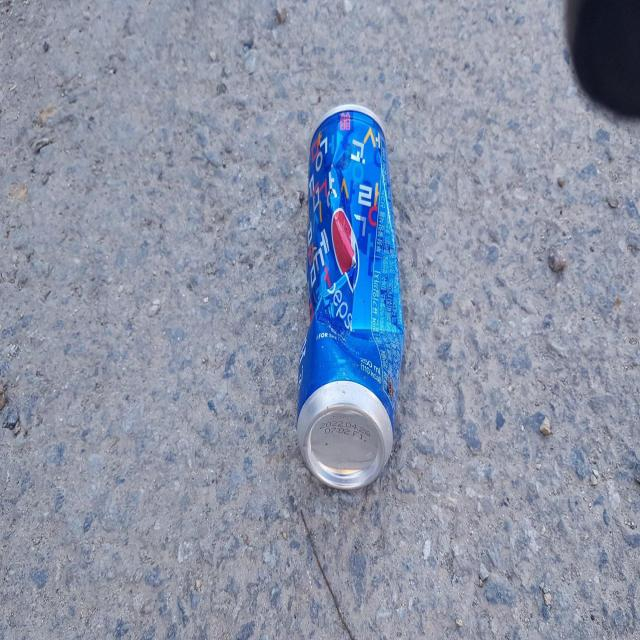can: (297, 103, 405, 489)
